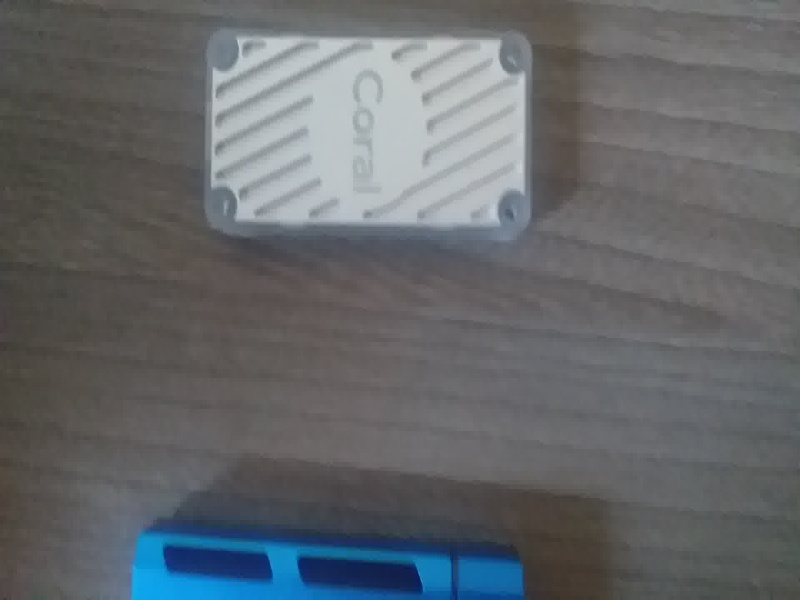coral: (197, 21, 540, 268)
movidius: (128, 516, 519, 600)
